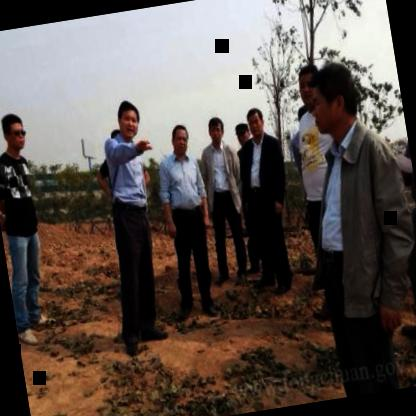head: (304, 57, 365, 137), (294, 61, 328, 116), (0, 107, 32, 155), (112, 96, 146, 141), (168, 118, 194, 160), (242, 101, 266, 142), (203, 112, 228, 146), (229, 119, 253, 151)
